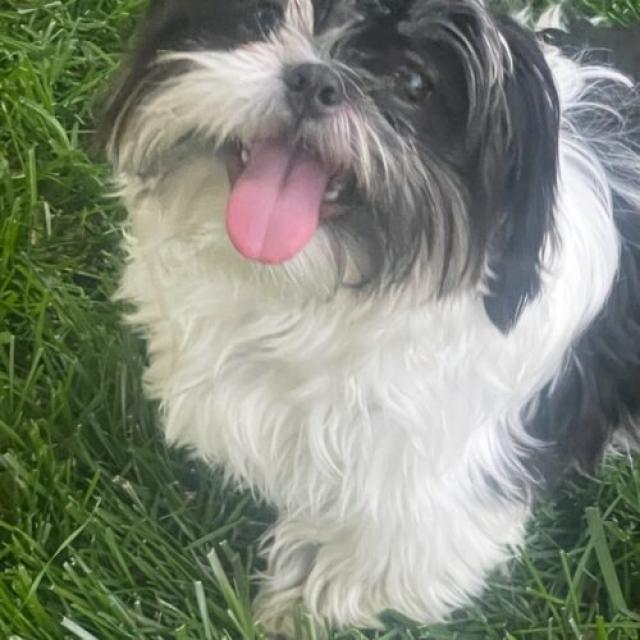shih_tzu_dog: (83, 0, 559, 371)
